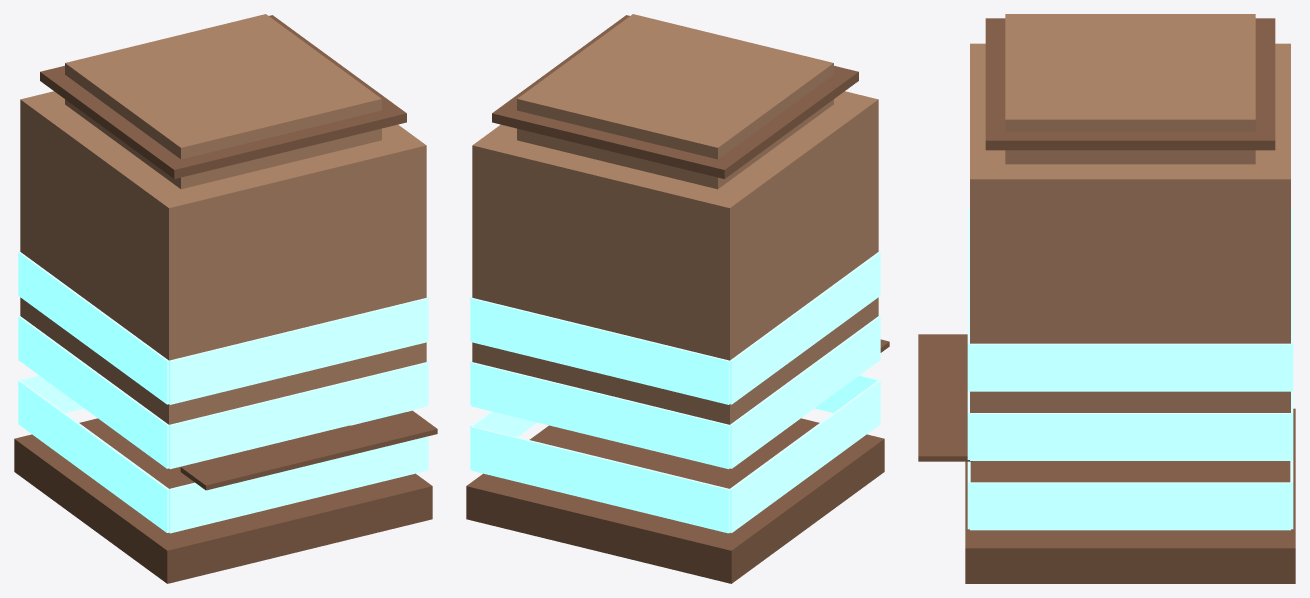
Rendered from building_b.glb.
3 renders of one model, left to right at view 1: azimuth 30°, elevation 25°; view 2: azimuth 150°, elevation 25°; view 3: azimuth 270°, elevation 25°, orthographic. The views are drawn at different scales.
Parts seen in each view (by area): view 1: MassLower, MassUpper, Plinth, WinN.001, WinN.002, WinN, Cornice, Awning, WinW, WinW.001, WinW.002, WinS; view 2: MassLower, MassUpper, Plinth, WinS, WinS.001, WinS.002, Cornice, WinW, WinW.001, WinW.002, WinE, WinN; view 3: MassLower, MassUpper, Plinth, WinE, WinE.002, WinE.001, Cornice, Awning, WinN.002, WinS.002.
Boxes of the visible parts, x1=… form: MassLower: x1=20, y1=91, x2=426, y2=424; MassUpper: x1=65, y1=14, x2=381, y2=189; Plinth: x1=14, y1=418, x2=432, y2=583; WinN.001: x1=169, y1=362, x2=427, y2=469; WinN.002: x1=169, y1=298, x2=427, y2=404; WinN: x1=169, y1=436, x2=427, y2=533; Cornice: x1=40, y1=15, x2=406, y2=178; Awning: x1=180, y1=410, x2=437, y2=490; WinW: x1=18, y1=380, x2=168, y2=532; WinW.001: x1=18, y1=316, x2=168, y2=468; WinW.002: x1=18, y1=252, x2=168, y2=404; WinS: x1=19, y1=375, x2=83, y2=412; MassLower: x1=472, y1=91, x2=878, y2=424; MassUpper: x1=517, y1=14, x2=833, y2=189; Plinth: x1=466, y1=418, x2=884, y2=583; WinS: x1=471, y1=426, x2=729, y2=533; WinS.001: x1=471, y1=362, x2=729, y2=469; WinS.002: x1=471, y1=298, x2=729, y2=404; Cornice: x1=492, y1=15, x2=858, y2=178; WinW: x1=730, y1=380, x2=880, y2=532; WinW.001: x1=730, y1=316, x2=880, y2=468; WinW.002: x1=730, y1=252, x2=880, y2=404; WinE: x1=470, y1=411, x2=536, y2=469; WinN: x1=815, y1=375, x2=879, y2=412; MassLower: x1=970, y1=43, x2=1290, y2=412; MassUpper: x1=1005, y1=14, x2=1255, y2=164; Plinth: x1=965, y1=408, x2=1295, y2=583; WinE: x1=970, y1=482, x2=1290, y2=530; WinE.002: x1=970, y1=343, x2=1290, y2=391; WinE.001: x1=970, y1=413, x2=1290, y2=460; Cornice: x1=985, y1=18, x2=1275, y2=150; Awning: x1=918, y1=334, x2=972, y2=461; WinN.002: x1=967, y1=208, x2=969, y2=390; WinS.002: x1=1291, y1=208, x2=1293, y2=390.
Size of the model in its own units: 6.7 by 10 by 7.65.
